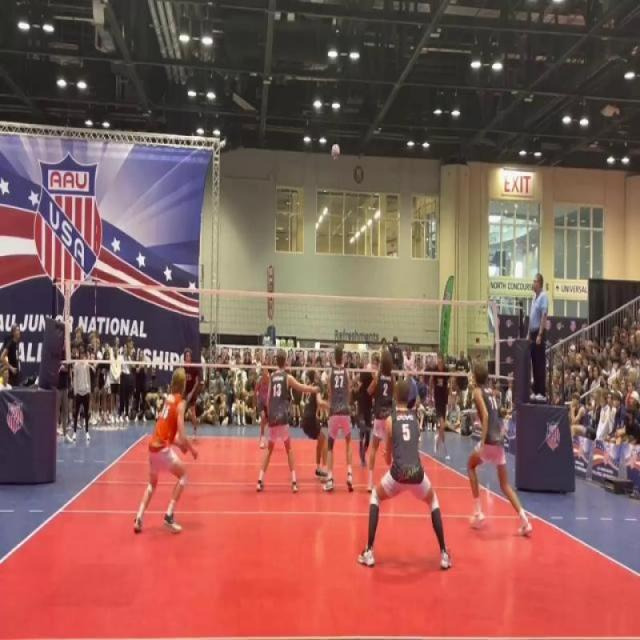volleyball: (330, 142, 341, 162)
